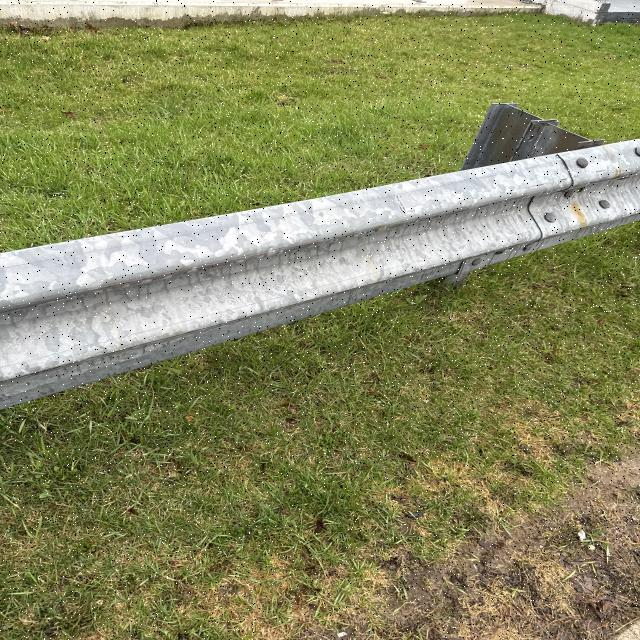Guard rail: (31, 138, 638, 382)
